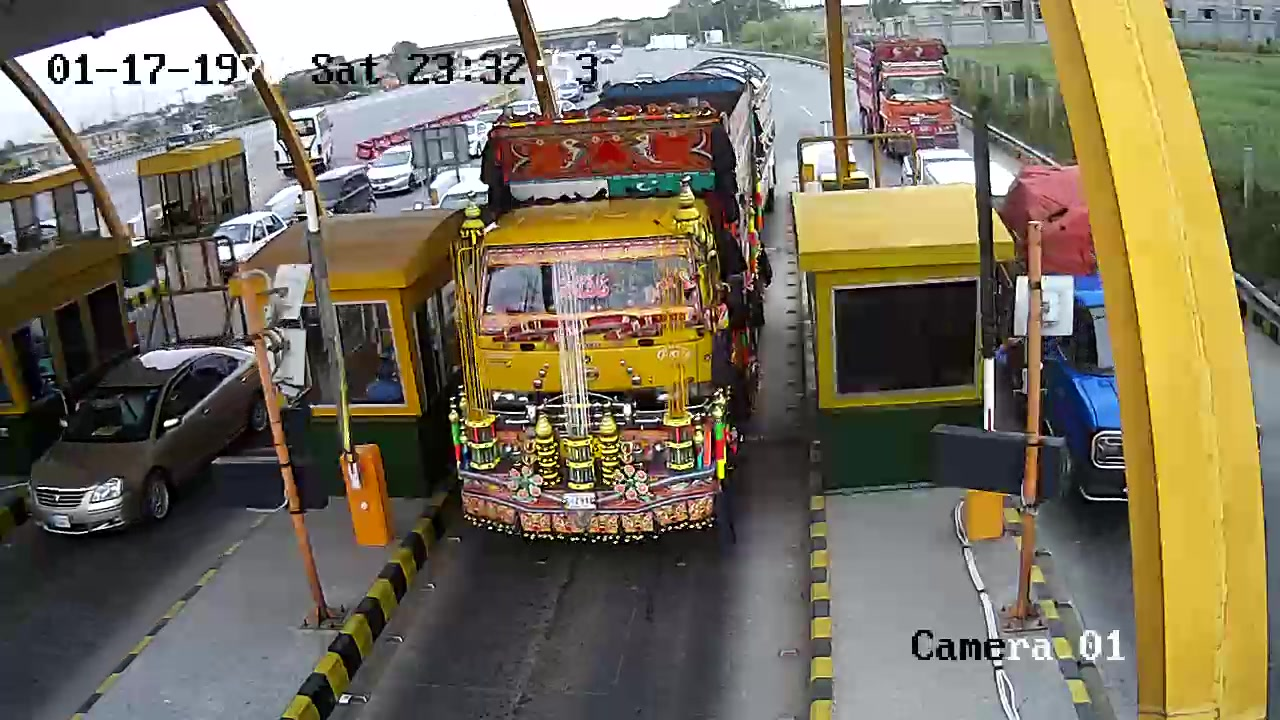F5: (441, 52, 807, 557)
